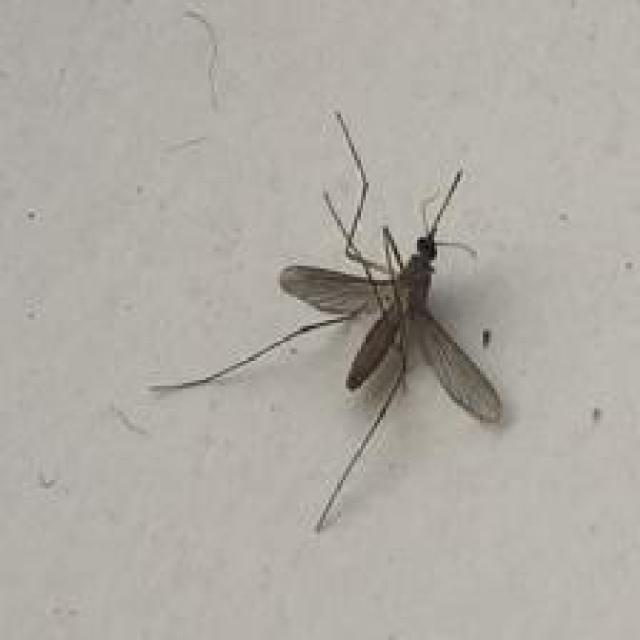Culex: (147, 109, 504, 534)
